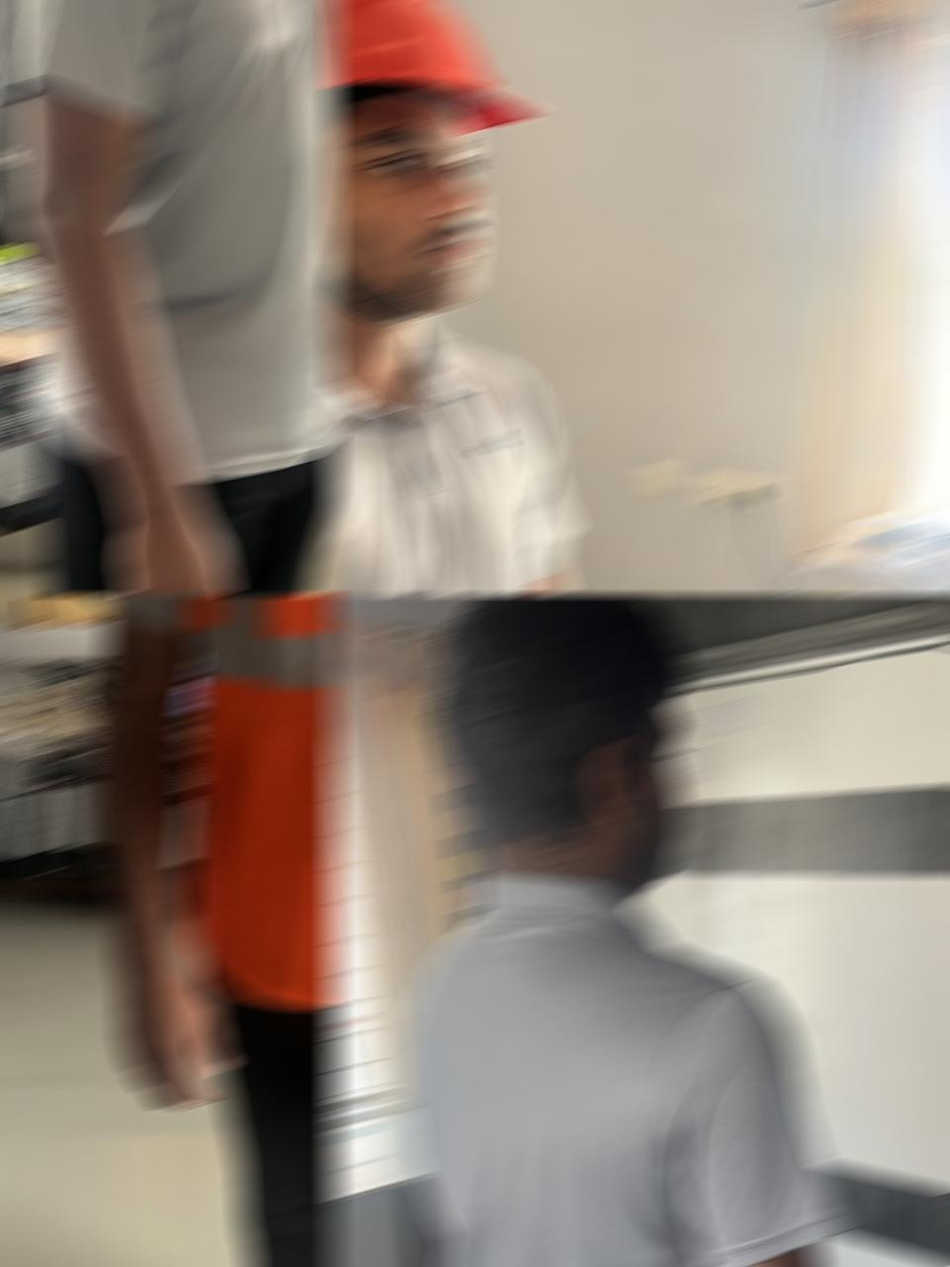Helmet: (327, 1, 545, 151)
No_Helmet: (426, 596, 689, 895)
No_Vest: (398, 876, 851, 1266), (6, 1, 338, 480)
Person: (398, 596, 887, 1266), (4, 1, 338, 593), (327, 1, 643, 593), (71, 596, 338, 1266)
Vest: (165, 596, 338, 1008)
